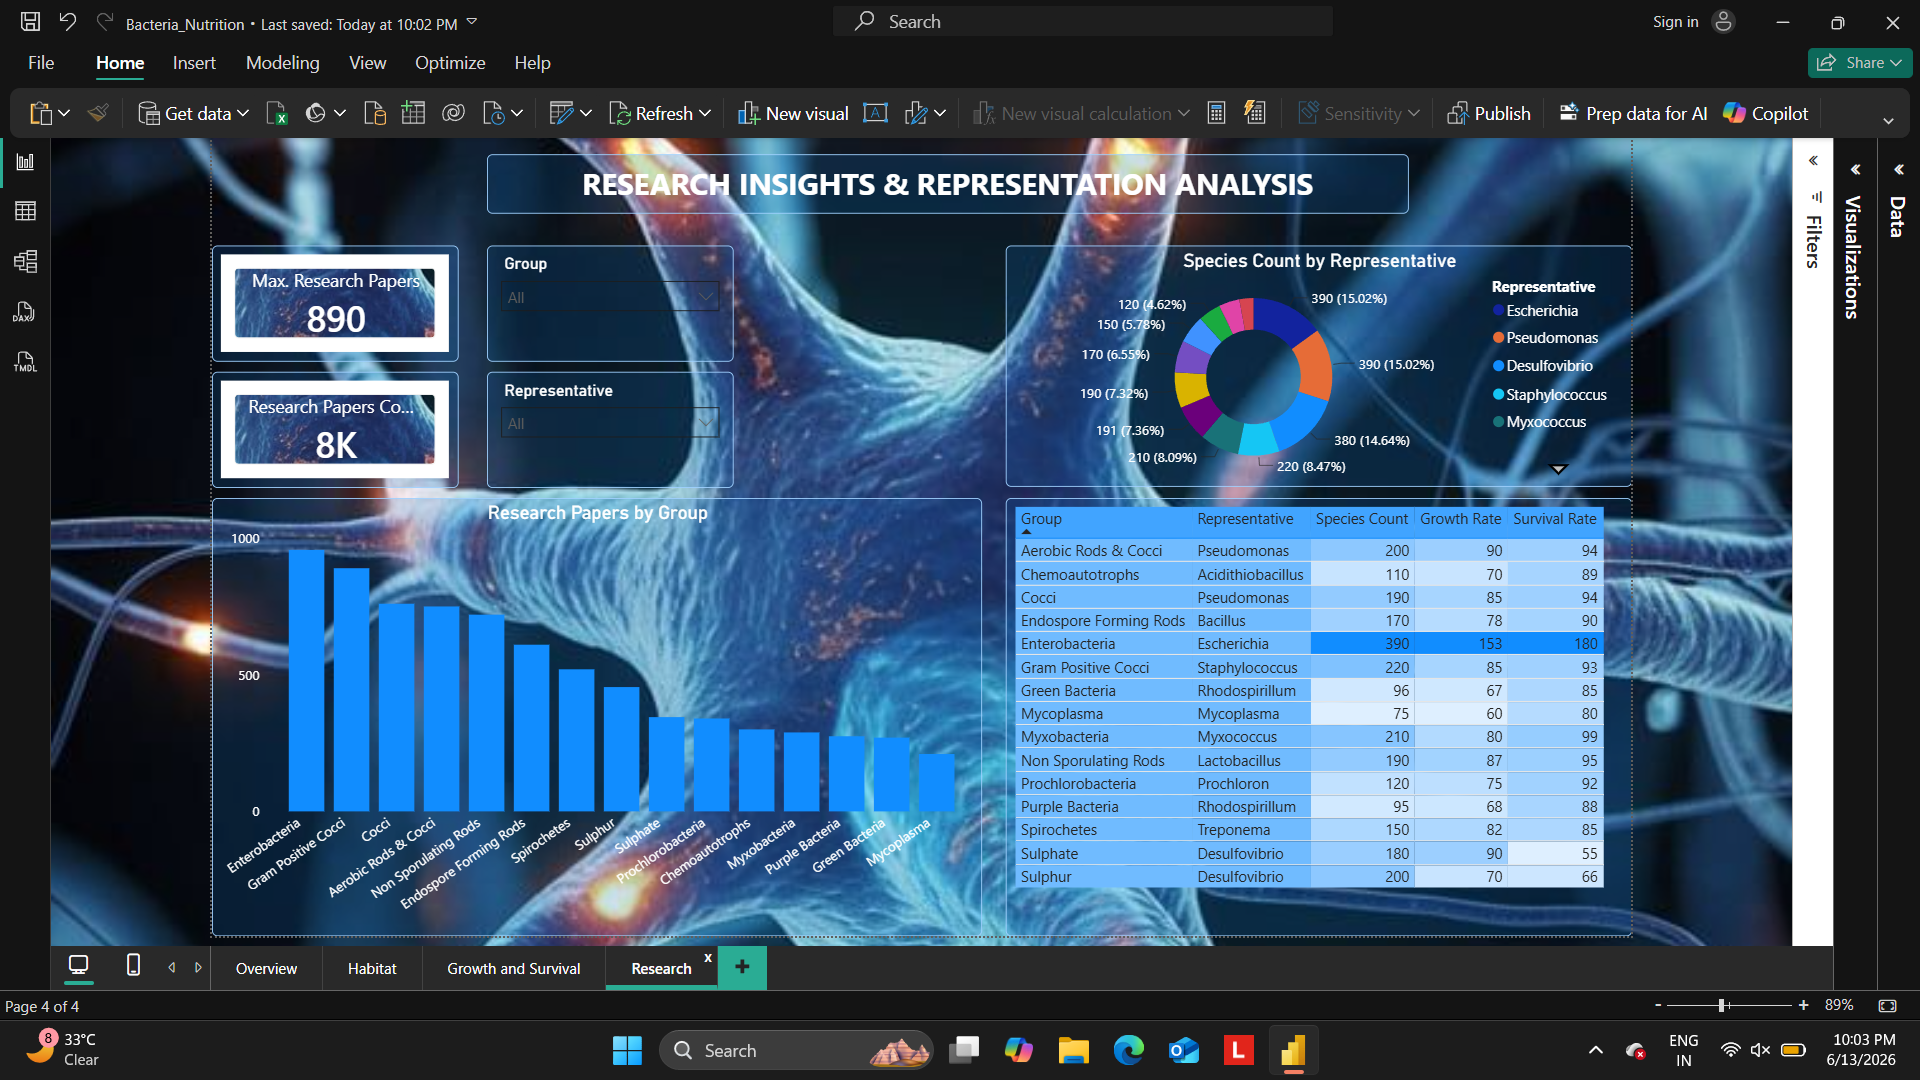

This screenshot's page, from the dashboard's own definition file:
{"tool":"powerbi","page":{"name":"Research","canvas":[1280,720],"ordinal":3},"visuals":[{"type":"textbox","box":[247.5,14.9,831,53.5],"z":0},{"type":"clusteredColumnChart","title":"Research Papers by Group","fields":{"Category":["Sheet1.Group"],"Y":["Sum(Sheet1.Research_Papers)"]},"box":[0,324.7,694.1,395.6],"z":1000},{"type":"donutChart","title":"Species Count by Representative","fields":{"Y":["Sum(Sheet1.Species_Count)"],"Category":["Sheet1.Representative"]},"box":[715.3,97,564.8,217.7],"z":2000},{"type":"tableEx","fields":{"Values":["Sheet1.Group","Sheet1.Representative","Sum(Sheet1.Species_Count)","Sum(Sheet1.Growth_Rate_%)","Sum(Sheet1.Survival_Rate_%)"]},"box":[715.3,324.7,564.8,395.6],"z":3000},{"type":"cardVisual","fields":{"Data":["Max(Sheet1.Research_Papers)"]},"box":[0,97,222.7,104.5],"z":4000},{"type":"cardVisual","fields":{"Data":["Sum(Sheet1.Research_Papers)"]},"box":[0,210.2,222.7,104.5],"z":5000},{"type":"slicer","fields":{"Values":["Sheet1.Group"]},"box":[247.5,97,222.7,104.5],"z":6000},{"type":"slicer","fields":{"Values":["Sheet1.Representative"]},"box":[247.5,210.2,222.7,104.5],"z":7000}]}

Visuals, with their boxes on the page's 1280x720 design canvas (x1, y1, x2, y2). These are canvas units, not pixel positions in the 1920x1080 screenshot, which may show the page scaled, cropped or inside an application window:
textbox: 248 15 1078 68
"Research Papers by Group" clusteredColumnChart: 0 325 694 720
"Species Count by Representative" donutChart: 715 97 1280 315
tableEx - Sheet1.Group x Sheet1.Representative: 715 325 1280 720
cardVisual - Max(Sheet1.Research_Papers): 0 97 223 202
cardVisual - Sum(Sheet1.Research_Papers): 0 210 223 315
slicer - Sheet1.Group: 248 97 470 202
slicer - Sheet1.Representative: 248 210 470 315
